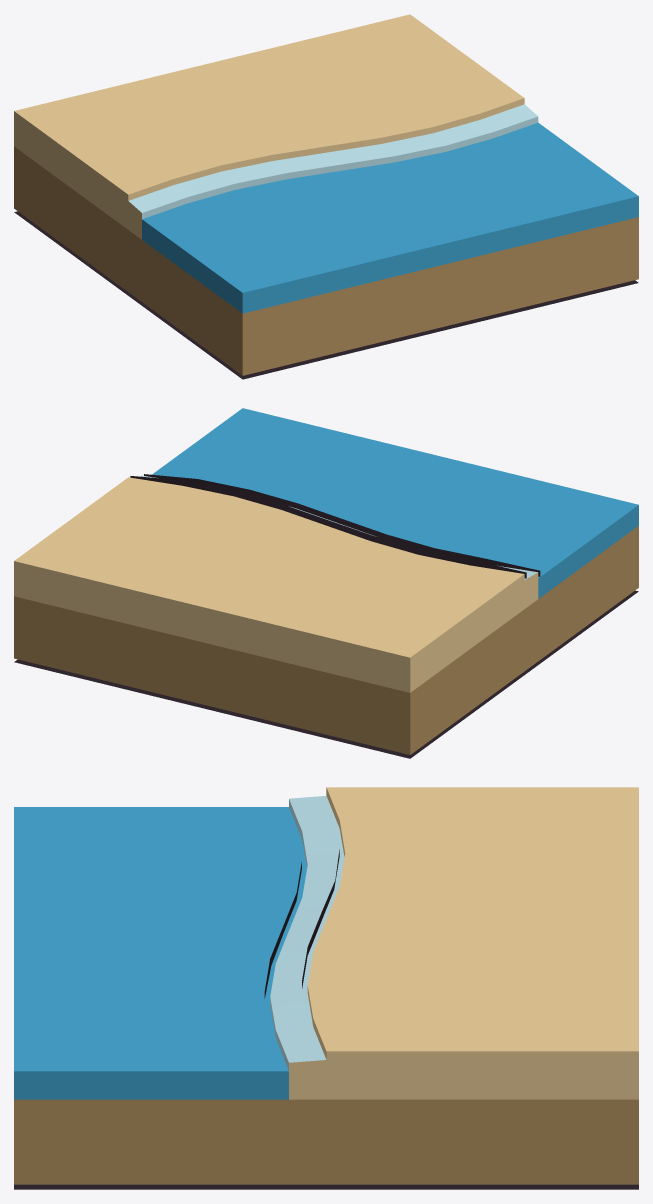
File: SM_Island_Tile_ShoreEdge.fbx
3 renders of one model, top to bottom at view 1: azimuth 30°, elevation 25°; view 2: azimuth 150°, elevation 25°; view 3: azimuth 270°, elevation 25°, orthographic. The views are drawn at different scales.
Visible parts, largest first — view 1: SM_Island_Tile_ShoreEdge, SM_Island_Tile_ShoreEdge_Outline; view 2: SM_Island_Tile_ShoreEdge, SM_Island_Tile_ShoreEdge_Outline; view 3: SM_Island_Tile_ShoreEdge, SM_Island_Tile_ShoreEdge_Outline.
Part boxes in pixels (x1=…): SM_Island_Tile_ShoreEdge: x1=14, y1=14, x2=638, y2=375; SM_Island_Tile_ShoreEdge_Outline: x1=14, y1=211, x2=638, y2=379; SM_Island_Tile_ShoreEdge: x1=14, y1=408, x2=638, y2=754; SM_Island_Tile_ShoreEdge_Outline: x1=14, y1=474, x2=638, y2=758; SM_Island_Tile_ShoreEdge: x1=14, y1=787, x2=638, y2=1184; SM_Island_Tile_ShoreEdge_Outline: x1=14, y1=849, x2=638, y2=1189.
Size of the model in its own units: 2 by 0.5094 by 2.
Materials: 2 (1 with a texture image).
